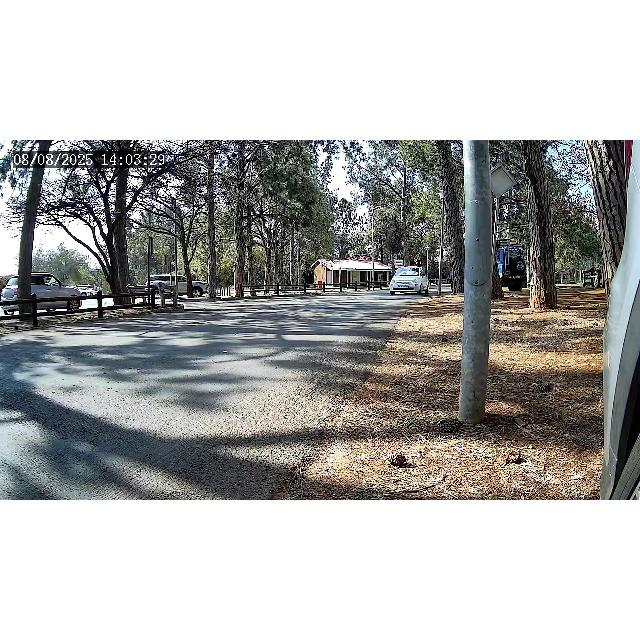car: (0, 271, 82, 313), (389, 266, 429, 296)
